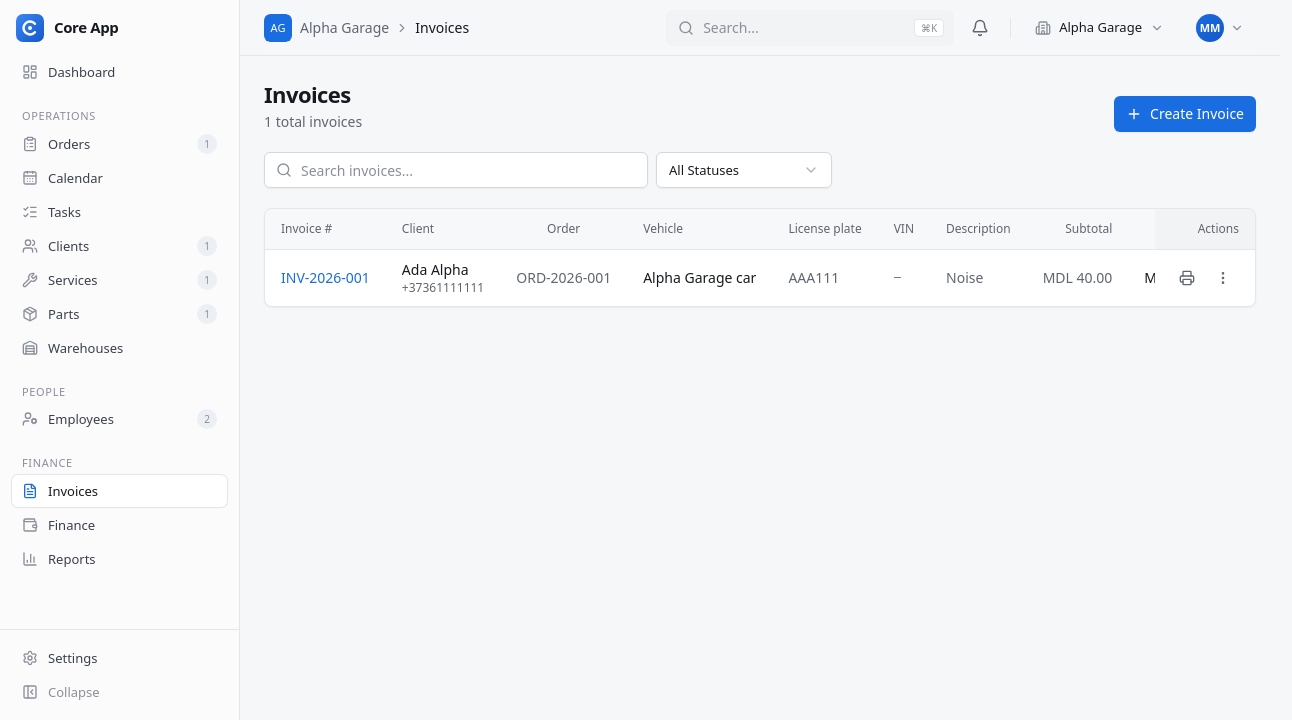
Test case: invoices page › marks an invoice as sent, paid and unpaid from the row menu
Later steps or results of the test are not shown.
Step 1. Click the button named "Actions for invoice INV-2026-001" → [1223, 278], box [1207, 262, 1239, 294]
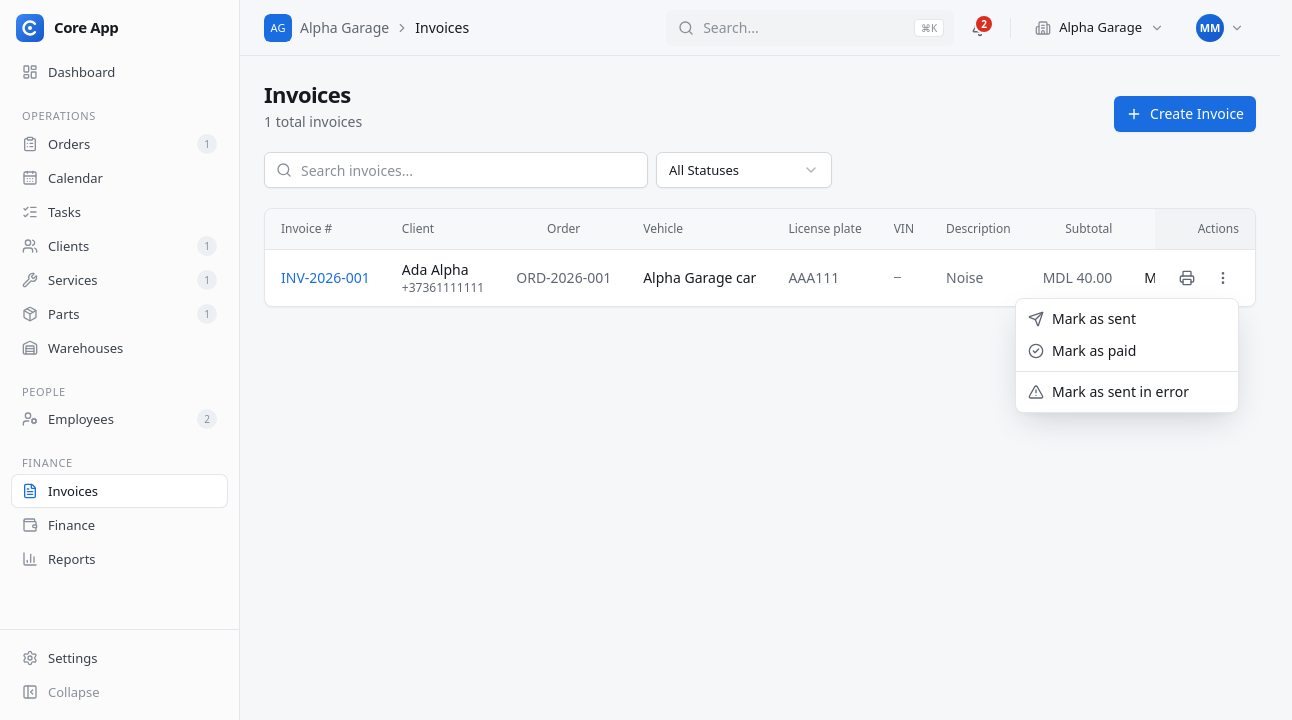
Step 2. Click the menu item "Mark as sent" → [1082, 318], box [1028, 309, 1136, 328]
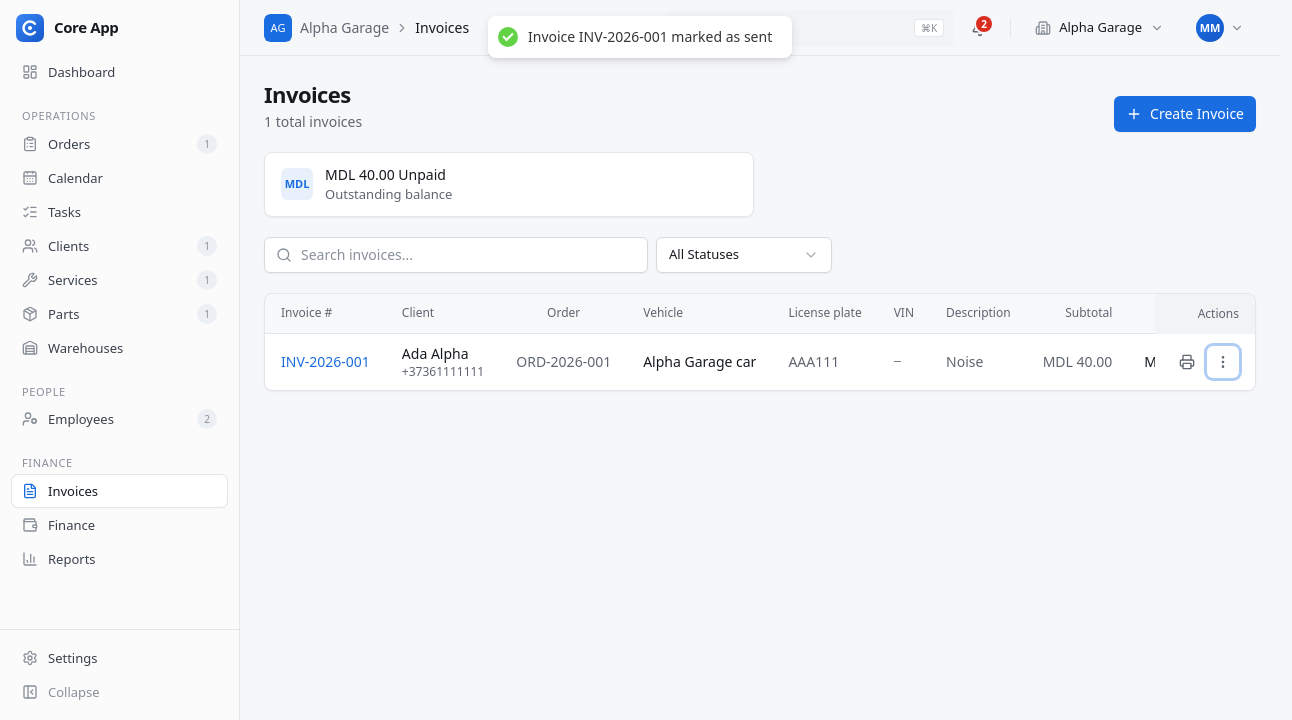
Now the text "MDL 40.00 Unpaid" is shown, box [325, 165, 452, 185]
